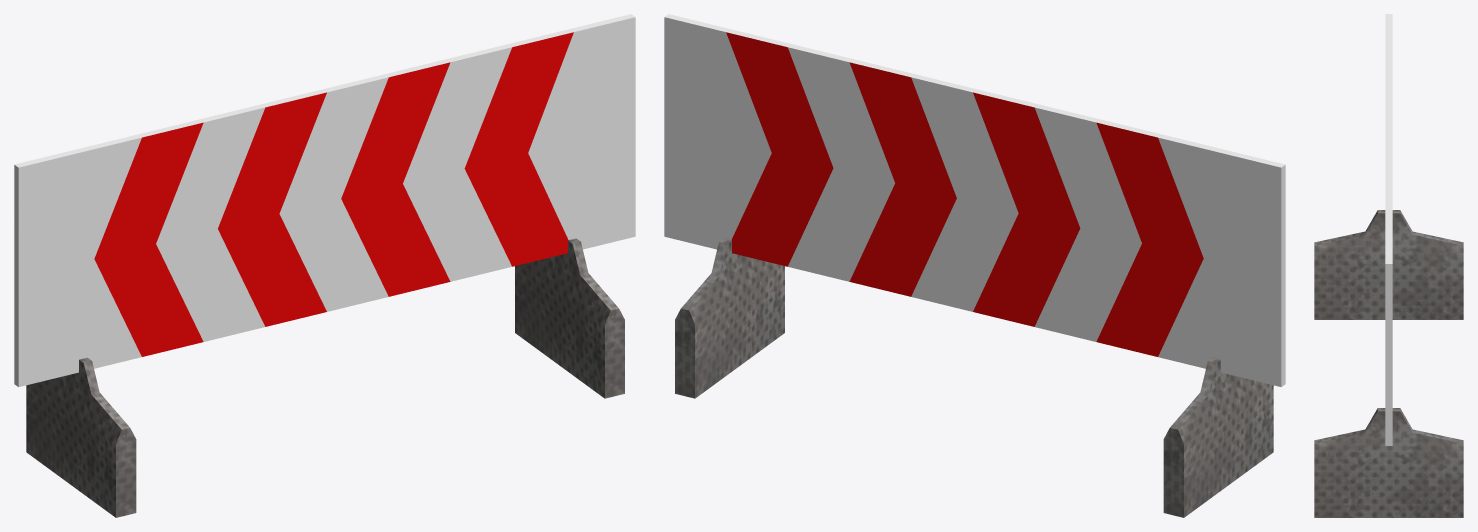
The model's file is DirectionalSign.glb.
3 views of the same model, side by side, from view 1: azimuth 30°, elevation 25°; view 2: azimuth 150°, elevation 25°; view 3: azimuth 270°, elevation 25° (orthographic). The views are drawn at different scales.
Visible parts, largest first — view 1: SignPlate, Support-2, Support-1; view 2: SignPlate, Support-2, Support-1; view 3: Support-1, Support-2, SignPlate.
Part boxes in pixels (<box>): SignPlate: <box>14,14,635,387</box>; Support-2: <box>26,357,136,517</box>; Support-1: <box>515,238,624,398</box>; SignPlate: <box>664,14,1285,387</box>; Support-2: <box>1163,357,1273,517</box>; Support-1: <box>675,238,784,398</box>; Support-1: <box>1314,408,1463,517</box>; Support-2: <box>1314,210,1463,319</box>; SignPlate: <box>1385,14,1392,445</box>.
Size of the model in its own units: 5 by 2.57 by 1.26.
Materials: 3 (1 with a texture image).
